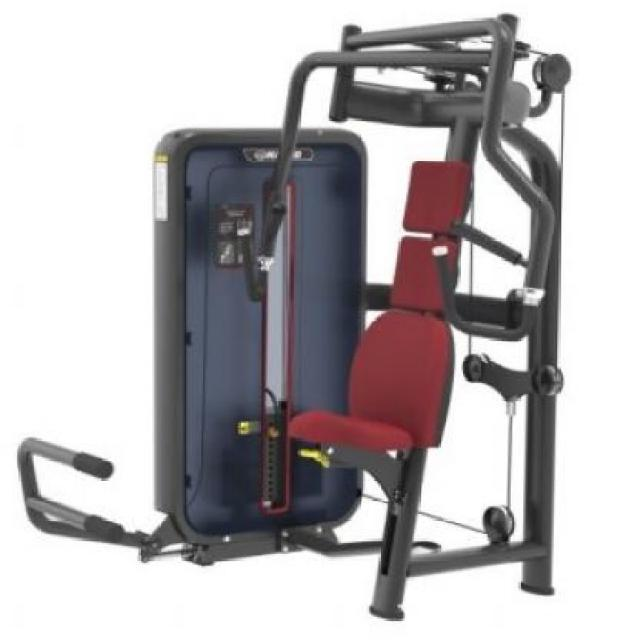Chest Press machine: (15, 0, 611, 640)
